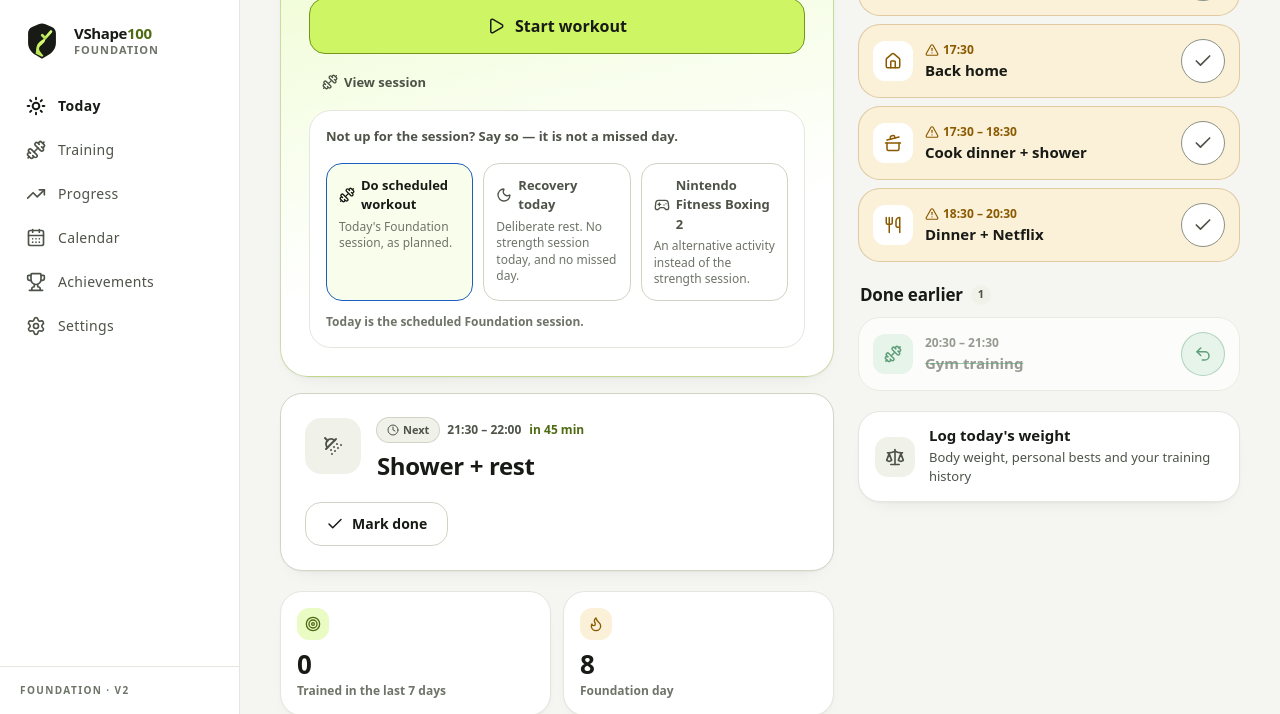
it: 16–17. saving and undoing › persists an undo and updates the UI
(page scrolled)
Click the button named "Undo Gym training" at (1203,354), box [1181,332,1225,376]
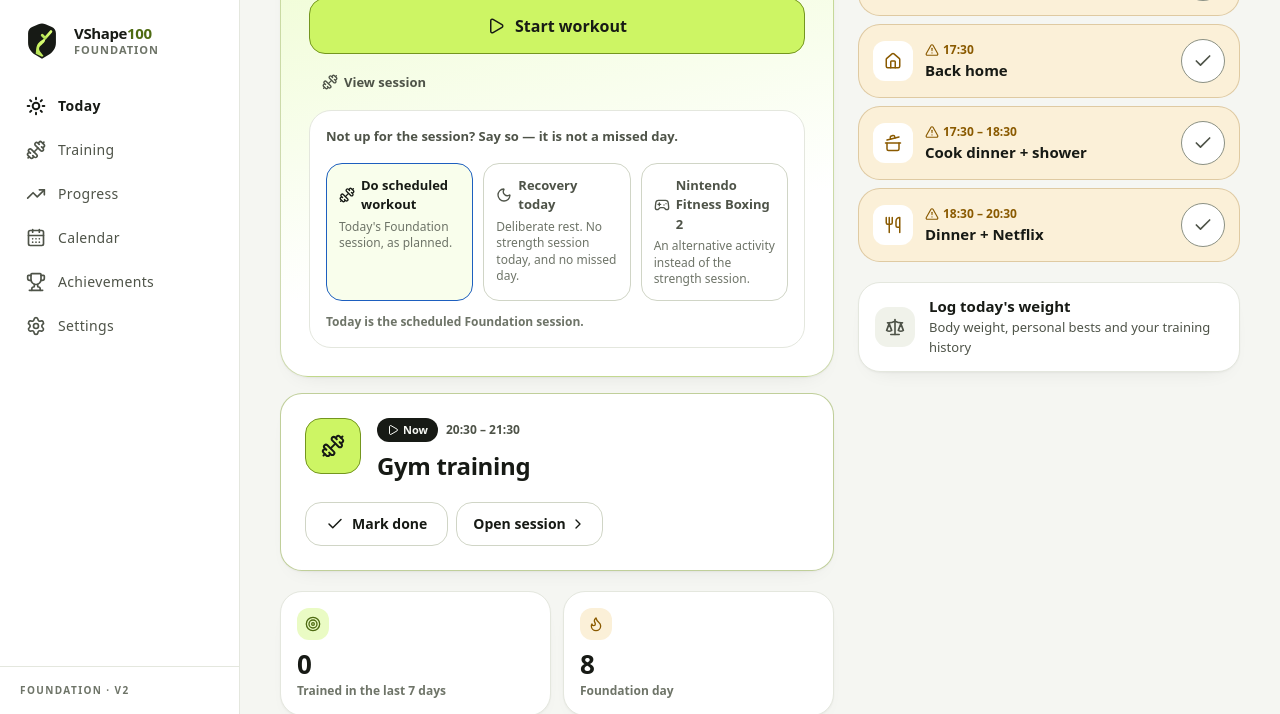
Check: the heading "Done earlier" is gone
